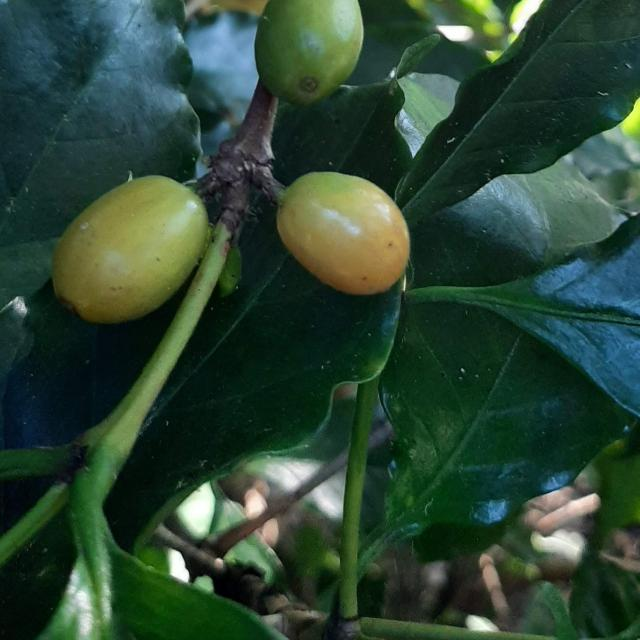green: (255, 0, 364, 104)
yellow: (51, 175, 209, 324), (277, 171, 410, 295)
